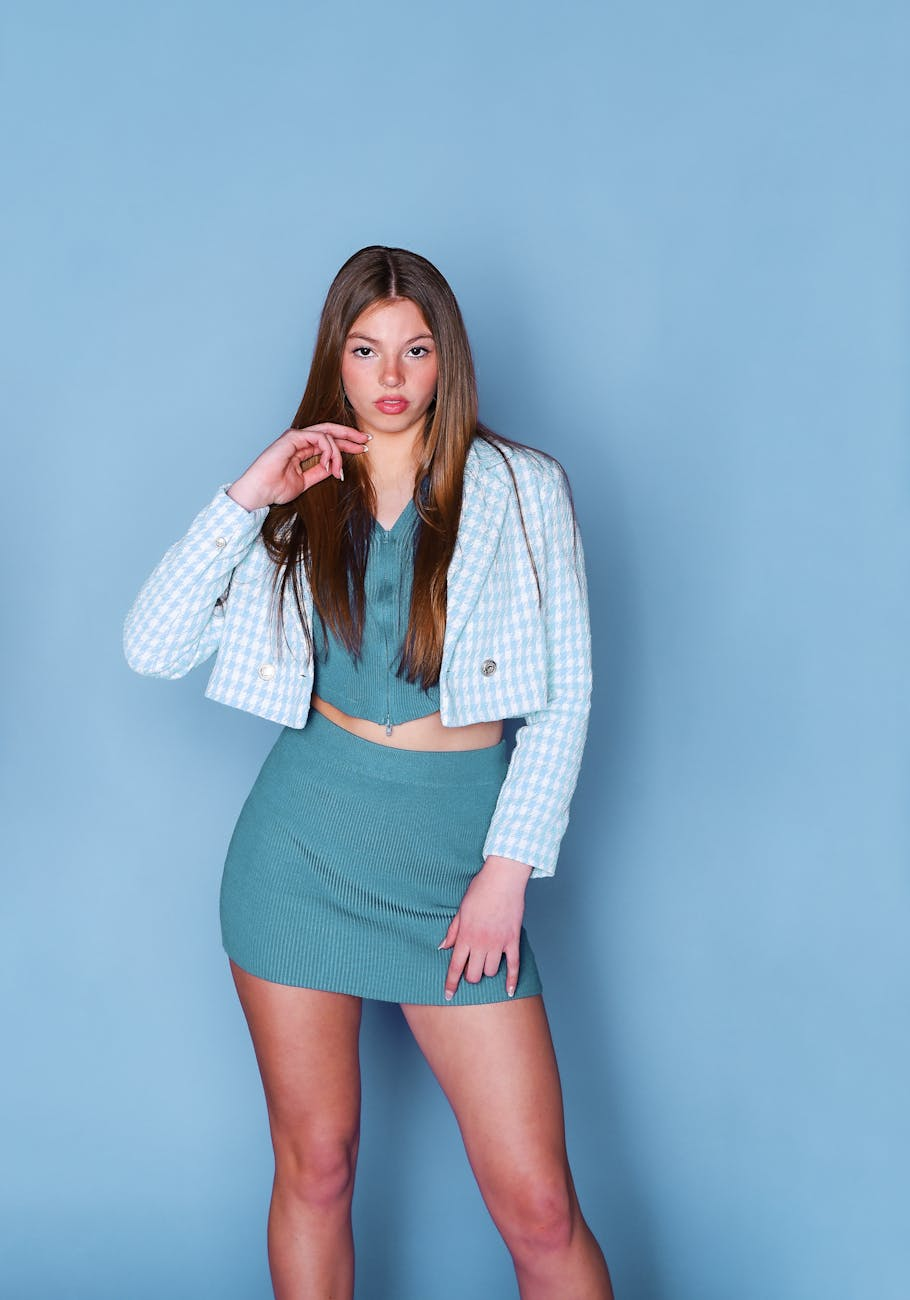crop_top: (265, 465, 528, 719)
short_medium_skirt: (205, 709, 551, 1002)
